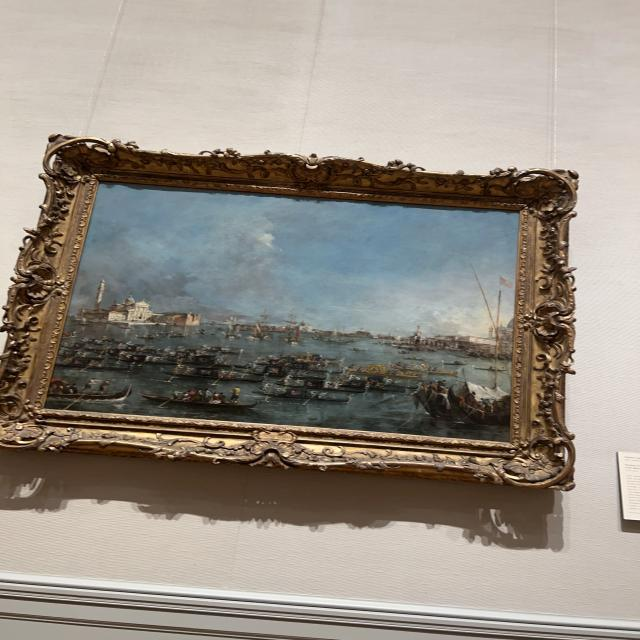ships: (44, 180, 521, 442)
